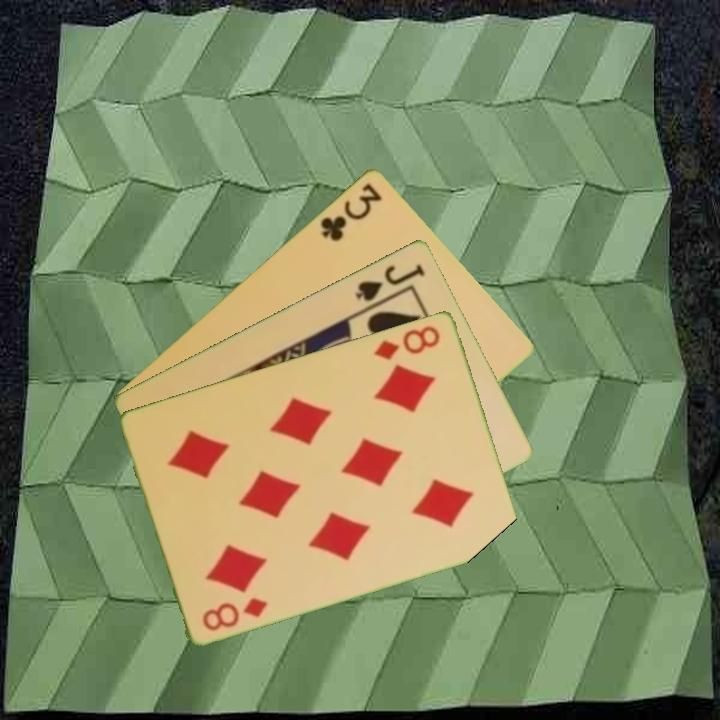3c: (317, 179, 386, 244)
8d: (371, 321, 444, 363), (199, 593, 271, 633)
Js: (351, 259, 428, 304)
